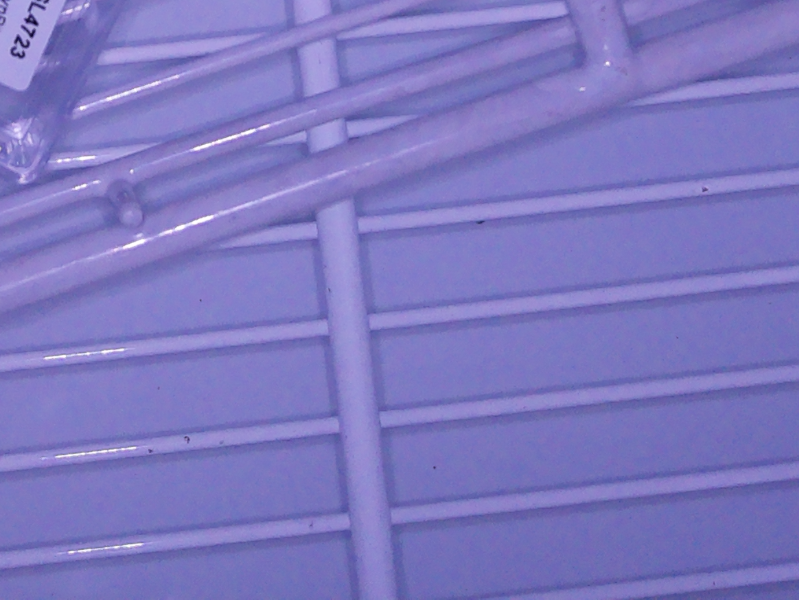plate: (1, 1, 128, 193)
